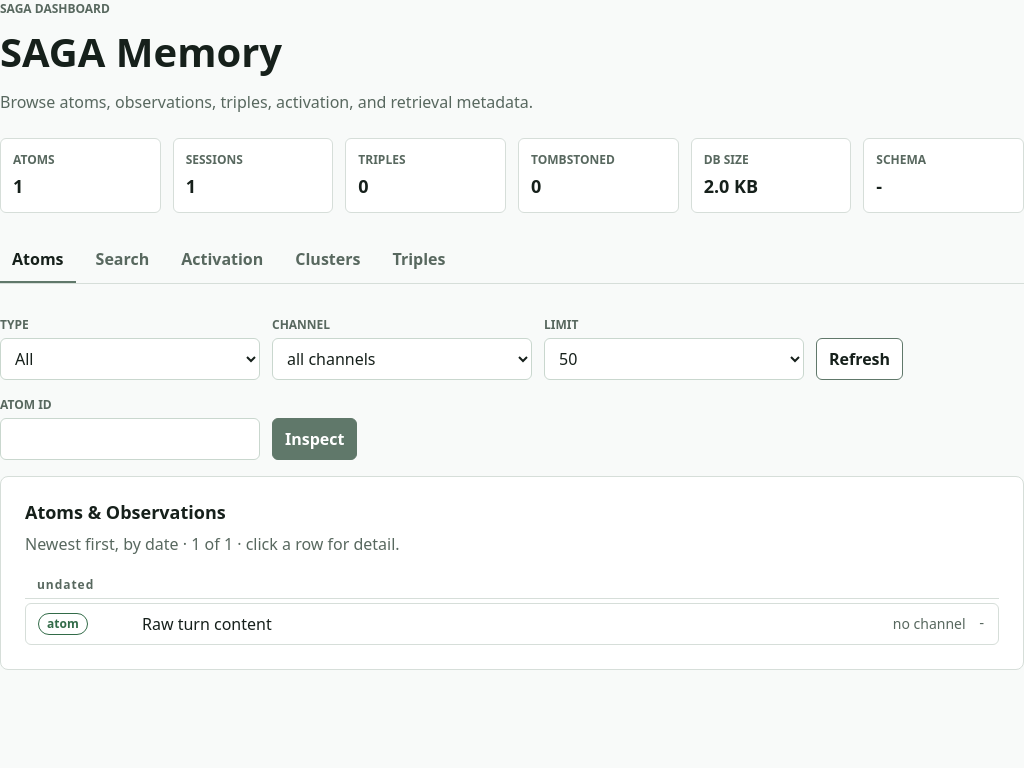
Test: SAGA dashboard rendering › pops out legacy atom detail fields on click instead of dropping them
Click the button "atom Raw turn content no channel -" at (63, 624), box x1=25 y1=602 x2=999 y2=644
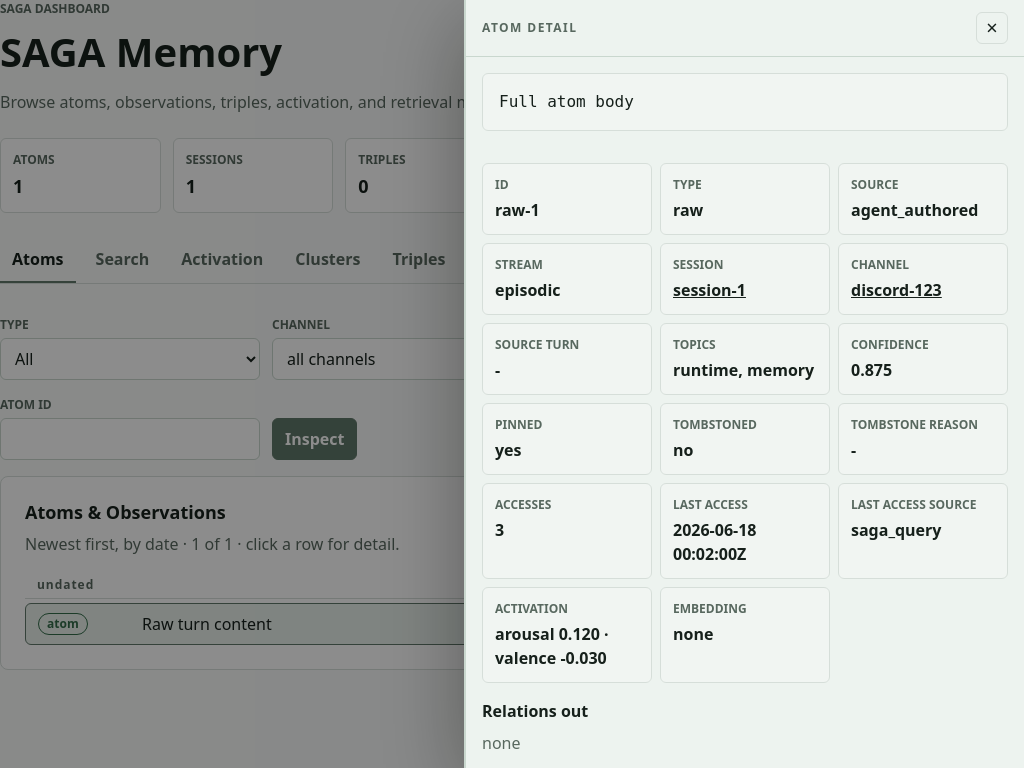
Check: the text "agent_authored" is shown, box x1=851 y1=198 x2=995 y2=222
Check: the link "session-1" is shown, box x1=673 y1=279 x2=746 y2=301
Check: the text "runtime, memory" is shown, box x1=673 y1=358 x2=817 y2=382
